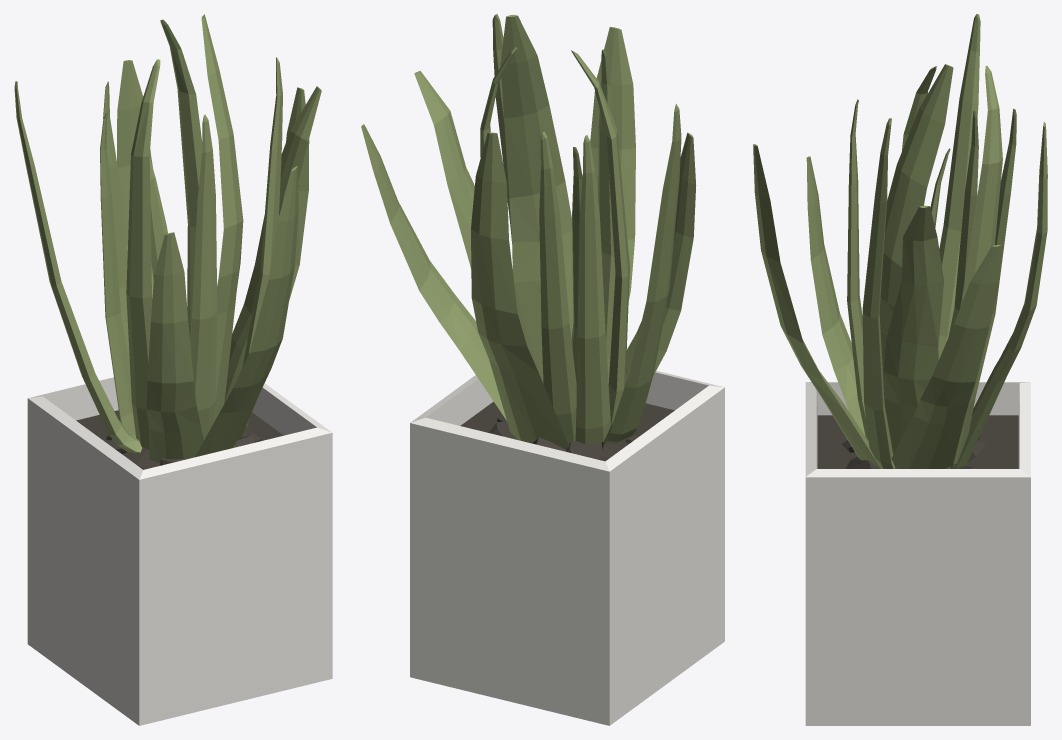
The model's file is plant.glb.
3 views of the same model, side by side, from view 1: azimuth 30°, elevation 25°; view 2: azimuth 150°, elevation 25°; view 3: azimuth 270°, elevation 25° (orthographic). The views are drawn at different scales.
Visible parts, largest first — view 1: plant; view 2: plant; view 3: plant.
Boxes of the visible parts, x1,y1,x2,y2 form: plant: [14, 14, 332, 725]; plant: [361, 14, 724, 725]; plant: [753, 14, 1047, 725].
Size of the model in its own units: 0.6721 by 1.35 by 0.5706.
